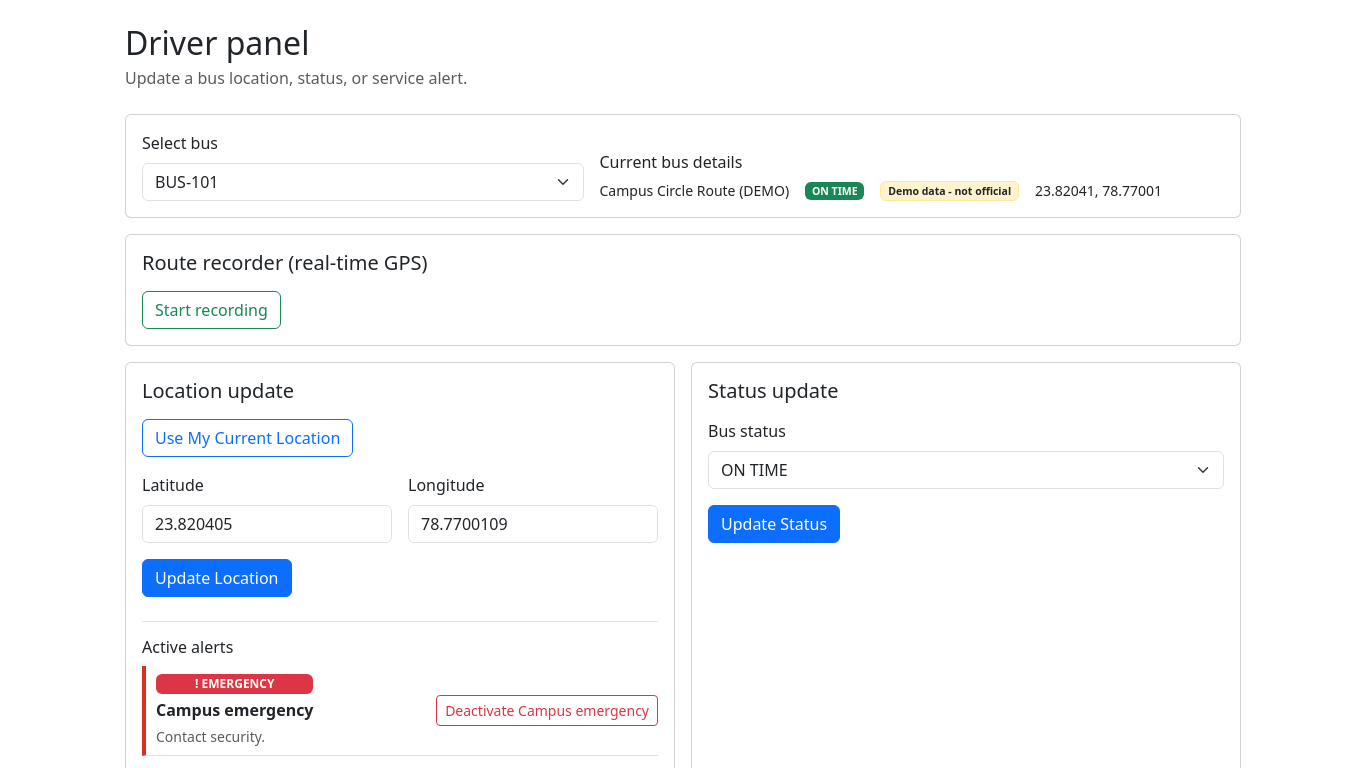
it: DriverPanelPage › deactivates an active alert, refreshes the list, and confirms inline
expect the heading "Driver panel" is shown: met, box [125,21,309,64]
expect the text "Campus emergency" is shown: met, box [156,698,314,722]
Click the button "Deactivate Campus emergency" at (547, 710), box [436,695,658,726]
(page scrolled)
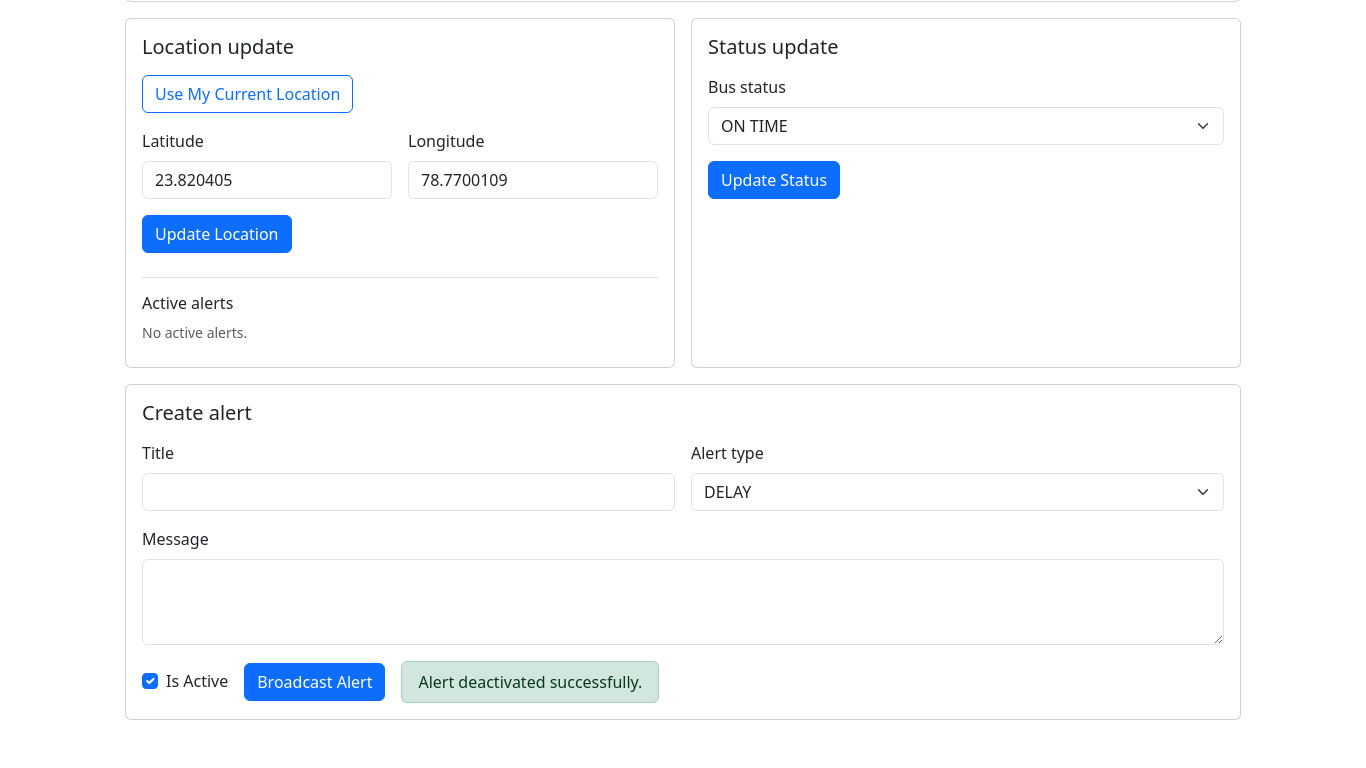
expect the text "Alert deactivated successfully." is shown: met, box [401,661,659,703]
expect the text "Campus emergency" is gone: met
